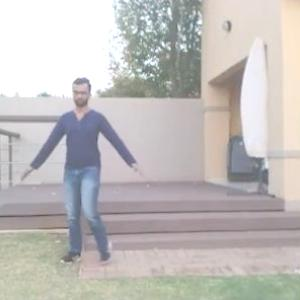land: (33, 88, 145, 272)
